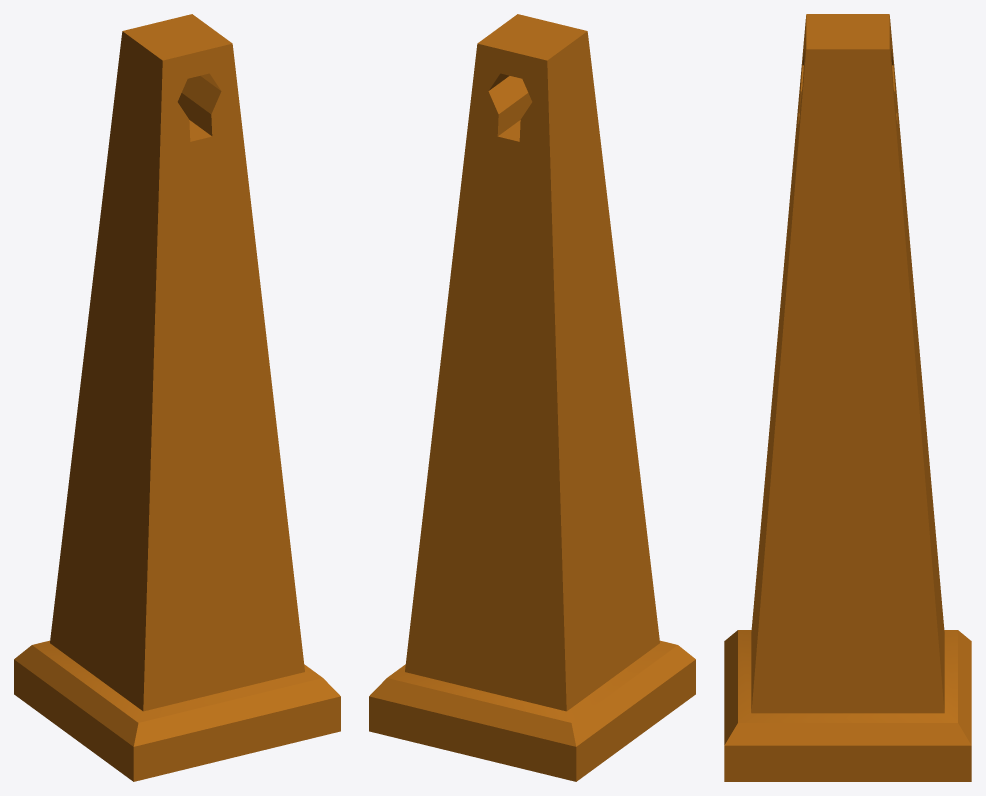
3 renders of one model, left to right at view 1: azimuth 30°, elevation 25°; view 2: azimuth 150°, elevation 25°; view 3: azimuth 270°, elevation 25°, orthographic. The views are drawn at different scales.
Visible parts, largest first — view 1: SM_Prop_Safety_Cone_01; view 2: SM_Prop_Safety_Cone_01; view 3: SM_Prop_Safety_Cone_01.
Boxes of the visible parts, bbox=[...] form: SM_Prop_Safety_Cone_01: bbox=[14, 14, 340, 781]; SM_Prop_Safety_Cone_01: bbox=[369, 14, 695, 781]; SM_Prop_Safety_Cone_01: bbox=[724, 14, 971, 781].
Bounding box in the file's own units: 0.3138 × 0.9773 × 0.3138.
1 material, 1 textured.
